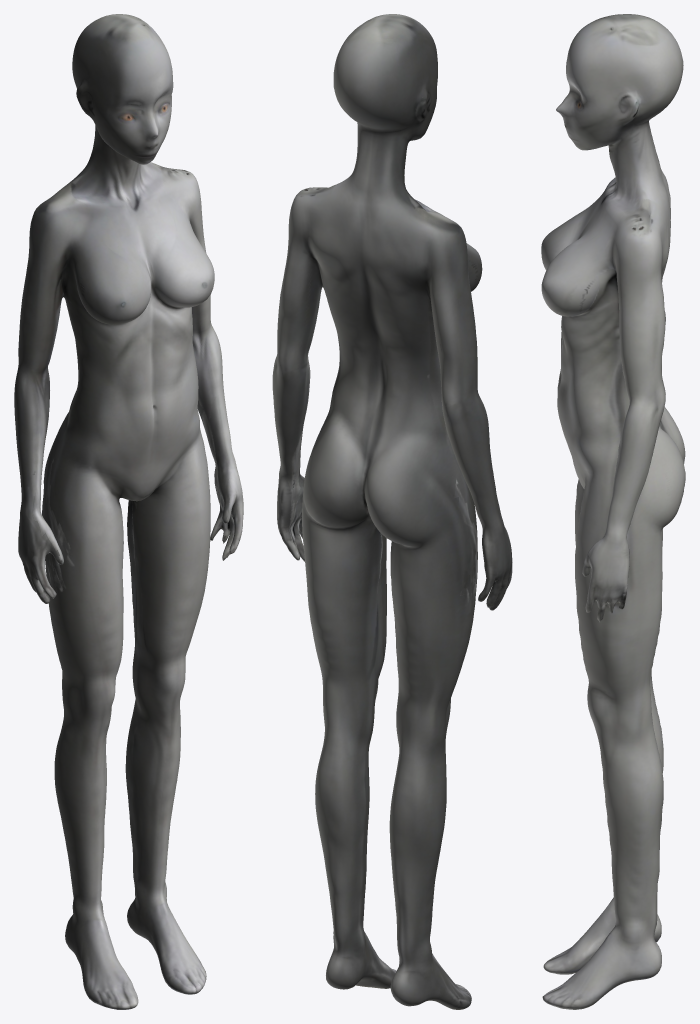
Rendered from women.glb.
The picture shows the model from 3 angles, left to right: view 1: azimuth 30°, elevation 25°; view 2: azimuth 150°, elevation 25°; view 3: azimuth 270°, elevation 25°; orthographic projection. The views are drawn at different scales.
Parts seen in each view (by area): view 1: Mesh_0.001; view 2: Mesh_0.001; view 3: Mesh_0.001.
Part boxes in pixels (x1,y1,x2,y2): Mesh_0.001: (14, 14, 243, 1009); Mesh_0.001: (272, 14, 512, 1009); Mesh_0.001: (541, 14, 685, 1009).
Bounding box in the file's own units: 0.4727 × 2 × 0.2702.
1 material, 1 textured.
